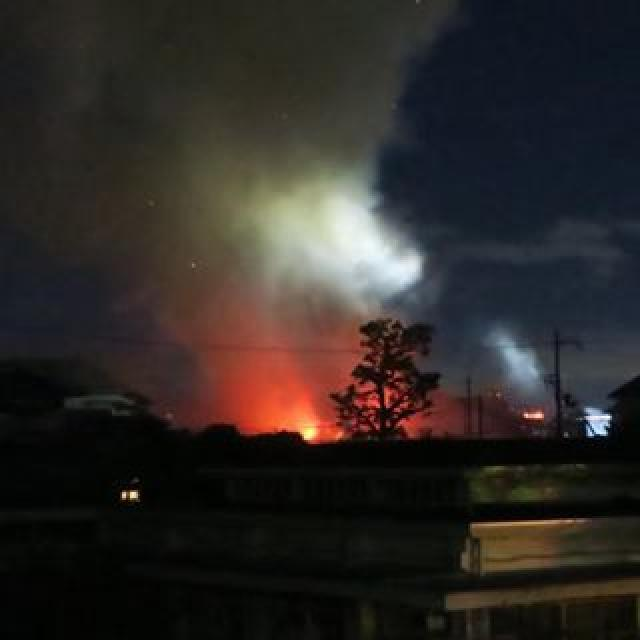Fire: (296, 418, 344, 446)
Smoke: (22, 18, 588, 414)
